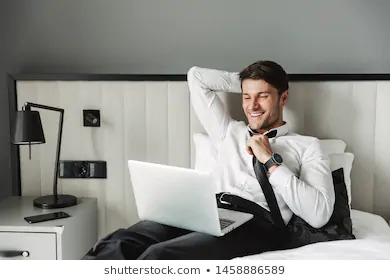F_shirt: (176, 65, 339, 226)
F_tie: (246, 127, 288, 231)
